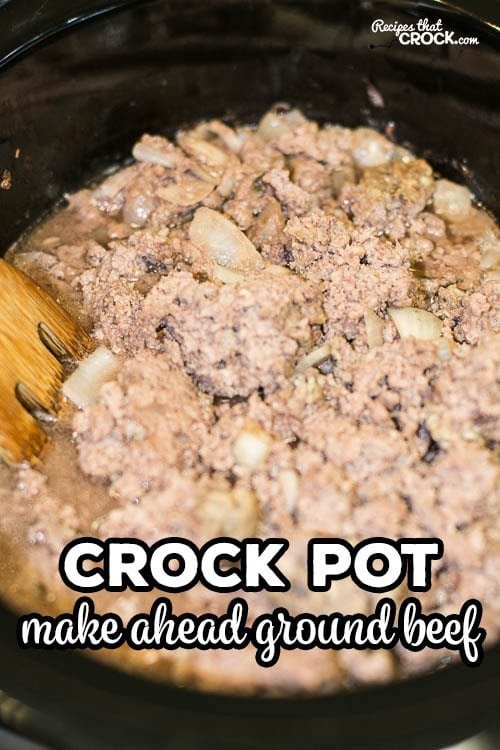ground_beef: (87, 155, 437, 455)
